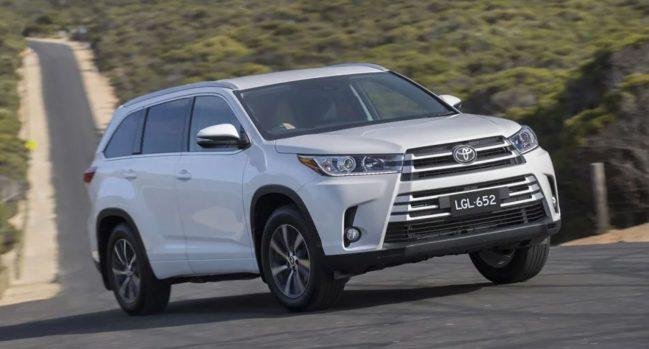car: (77, 65, 564, 306)
